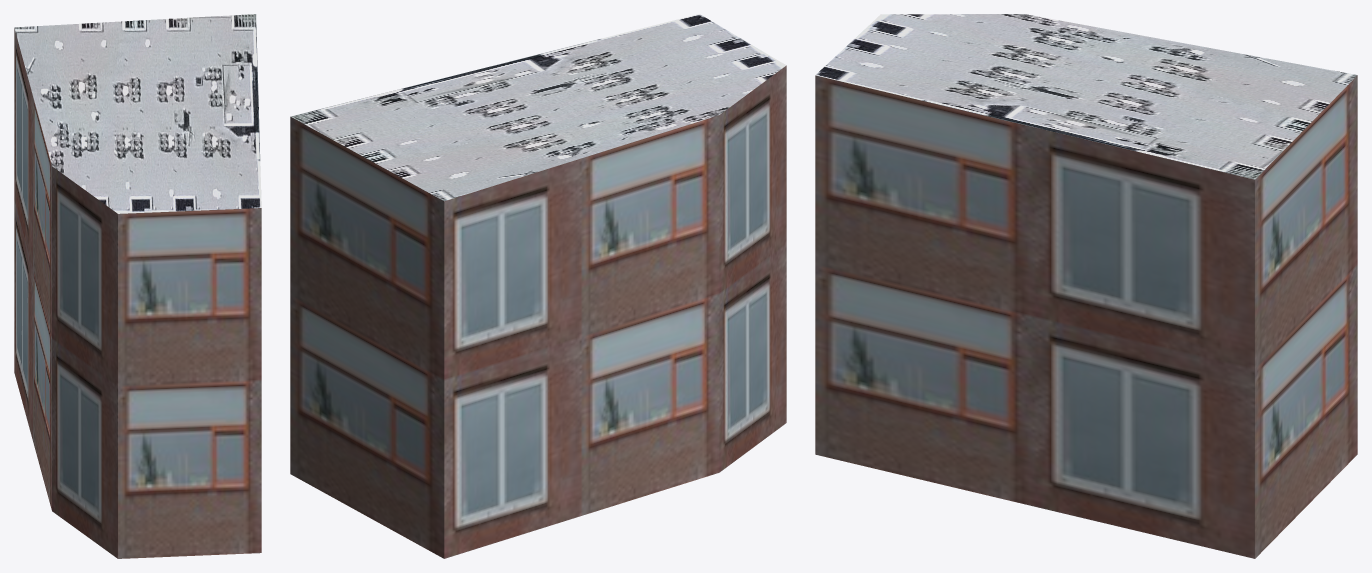
The model's file is ResTex__5021.fbx.
3 renders of one model, left to right at view 1: azimuth 30°, elevation 25°; view 2: azimuth 150°, elevation 25°; view 3: azimuth 270°, elevation 25°, orthographic. The views are drawn at different scales.
Parts seen in each view (by area): view 1: CityEngineMaterial_19_m, CityEngineMaterial_15_m; view 2: CityEngineMaterial_19_m, CityEngineMaterial_15_m; view 3: CityEngineMaterial_19_m, CityEngineMaterial_15_m.
Boxes of the visible parts, left/top/right/bottom form: CityEngineMaterial_19_m: left=14, top=28, right=261, bottom=558; CityEngineMaterial_15_m: left=14, top=14, right=261, bottom=213; CityEngineMaterial_19_m: left=290, top=65, right=786, bottom=558; CityEngineMaterial_15_m: left=291, top=14, right=785, bottom=201; CityEngineMaterial_19_m: left=815, top=75, right=1357, bottom=558; CityEngineMaterial_15_m: left=815, top=14, right=1357, bottom=179.
Bounding box in the file's own units: 5.62 × 6 × 7.78.
Materials: 2 (2 with a texture image).
